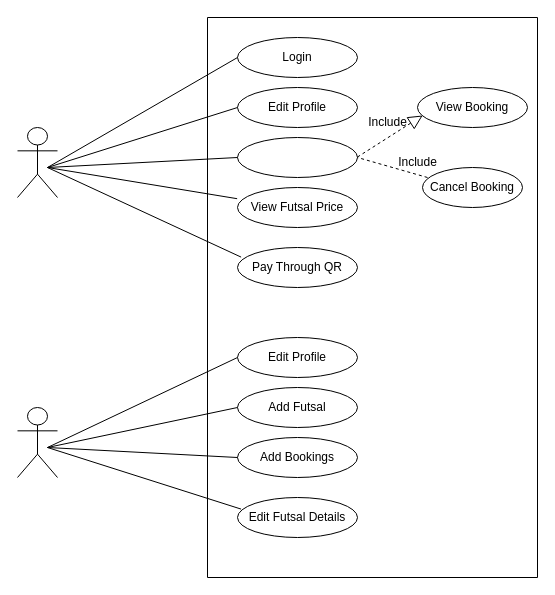
This 555x595 diagram has some shape labels left out. The box of each missing label's shape, as (x1, y1, x2, y2) in pixels:
Admin: (16, 406, 58, 478)
User: (16, 126, 58, 198)
View Futsal: (236, 136, 358, 178)
